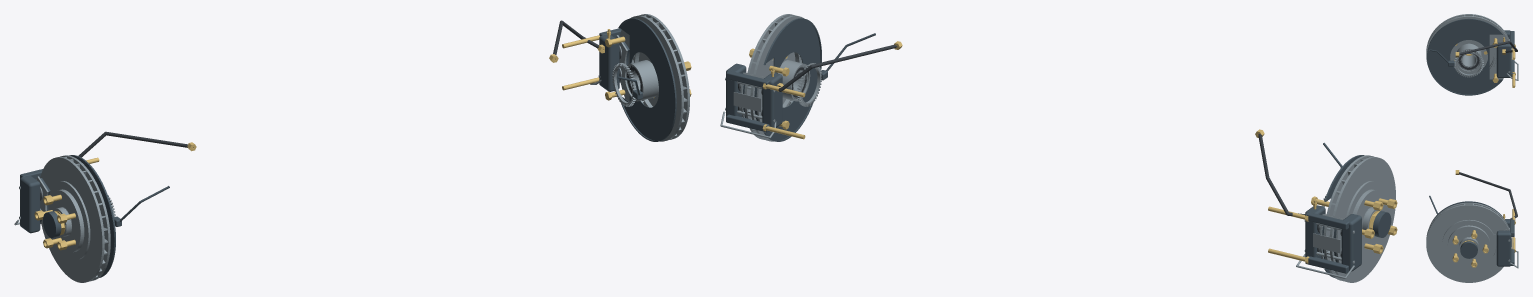
File: structure-brakes-front.glb
3 renders of one model, left to right at view 1: azimuth 30°, elevation 25°; view 2: azimuth 150°, elevation 25°; view 3: azimuth 270°, elevation 25°, orthographic. The views are drawn at different scales.
Visible parts, largest first — view 1: BRK-FR-001, BRK-FL-015, BRK-FL-001, BRK-FR-022, BRK-FR-002, BRK-FL-022, BRK-FL-002, BRK-FR-015, BRK-FL-031, BRK-FR-035, BRK-FL-016; view 2: BRK-FR-001, BRK-FL-015, BRK-FR-022, BRK-FL-022, BRK-FL-001, BRK-FR-002, BRK-FL-031, BRK-FL-032, BRK-FR-032, BRK-FL-035, BRK-FR-031, BRK-FL-002; view 3: BRK-FL-001, BRK-FR-015, BRK-FR-001, BRK-FL-002, BRK-FL-022, BRK-FR-022, BRK-FR-002, BRK-FL-009, BRK-FL-035, BRK-FR-016, BRK-FR-035, BRK-FR-031 (+5 smaller).
Boxes of the visible parts, left/top/right/bottom form: BRK-FR-001: left=40, top=155, right=110, bottom=282; BRK-FL-015: left=618, top=18, right=676, bottom=141; BRK-FL-001: left=619, top=14, right=689, bottom=141; BRK-FR-022: left=20, top=169, right=42, bottom=233; BRK-FR-002: left=48, top=189, right=84, bottom=252; BRK-FL-022: left=599, top=28, right=621, bottom=91; BRK-FL-002: left=624, top=60, right=658, bottom=101; BRK-FR-015: left=69, top=155, right=115, bottom=277; BRK-FL-031: left=562, top=35, right=625, bottom=100; BRK-FR-035: left=78, top=131, right=187, bottom=157; BRK-FL-016: left=612, top=63, right=636, bottom=106; BRK-FR-001: left=1323, top=155, right=1395, bottom=282; BRK-FL-015: left=763, top=18, right=821, bottom=141; BRK-FR-022: left=1305, top=205, right=1361, bottom=273; BRK-FL-022: left=726, top=63, right=782, bottom=132; BRK-FL-001: left=744, top=14, right=803, bottom=141; BRK-FR-002: left=1352, top=189, right=1385, bottom=252; BRK-FL-031: left=762, top=65, right=805, bottom=139; BRK-FL-032: left=725, top=77, right=775, bottom=122; BRK-FR-032: left=1304, top=220, right=1354, bottom=263; BRK-FL-035: left=778, top=44, right=897, bottom=91; BRK-FR-031: left=1268, top=196, right=1329, bottom=263; BRK-FL-002: left=770, top=60, right=810, bottom=101; BRK-FL-001: left=1426, top=202, right=1511, bottom=282; BRK-FR-015: left=1427, top=18, right=1503, bottom=95; BRK-FR-001: left=1426, top=14, right=1511, bottom=79; BRK-FL-002: left=1447, top=225, right=1490, bottom=265; BRK-FL-022: left=1496, top=219, right=1514, bottom=266; BRK-FR-022: left=1496, top=30, right=1514, bottom=77; BRK-FR-002: left=1457, top=43, right=1481, bottom=72; BRK-FL-009: left=1460, top=241, right=1477, bottom=258; BRK-FL-035: left=1459, top=172, right=1517, bottom=219; BRK-FR-016: left=1454, top=49, right=1483, bottom=77; BRK-FR-035: left=1459, top=41, right=1517, bottom=55; BRK-FR-031: left=1492, top=38, right=1515, bottom=87.
Size of the model in its own units: 1.67 by 0.294 by 0.3173.
